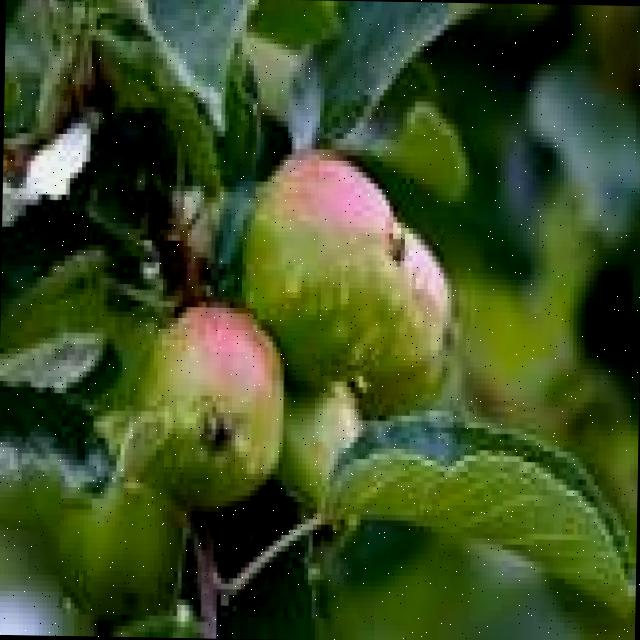Unripe: (237, 143, 408, 390), (134, 299, 284, 512)
